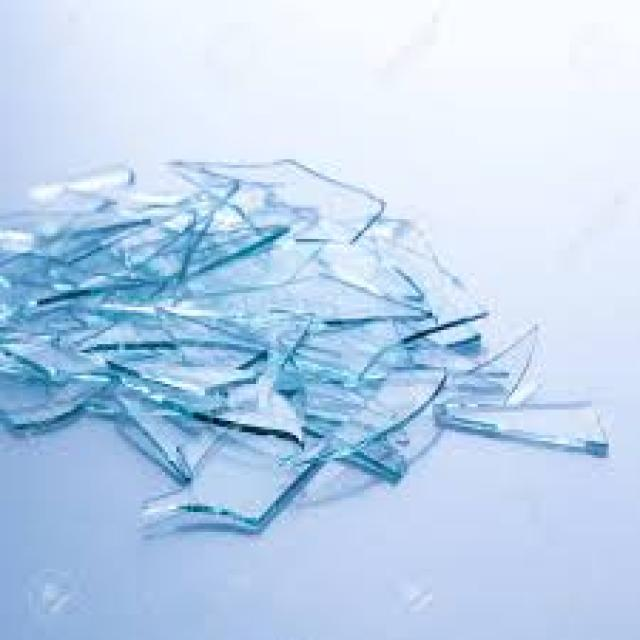glass: (165, 154, 384, 248), (270, 356, 435, 458), (364, 199, 481, 341), (134, 430, 310, 518), (3, 251, 99, 379), (131, 373, 296, 441), (0, 333, 111, 432), (299, 404, 441, 481), (236, 268, 424, 322), (103, 387, 217, 475), (429, 396, 606, 450), (435, 322, 532, 418), (125, 219, 285, 273), (188, 236, 316, 296), (77, 304, 253, 347), (94, 347, 253, 390), (299, 319, 404, 384), (3, 202, 136, 253), (410, 341, 524, 387), (89, 162, 194, 211), (157, 299, 251, 353), (213, 316, 310, 361), (20, 160, 136, 197), (74, 276, 208, 304), (396, 316, 487, 350), (31, 267, 134, 293), (83, 387, 125, 415)
